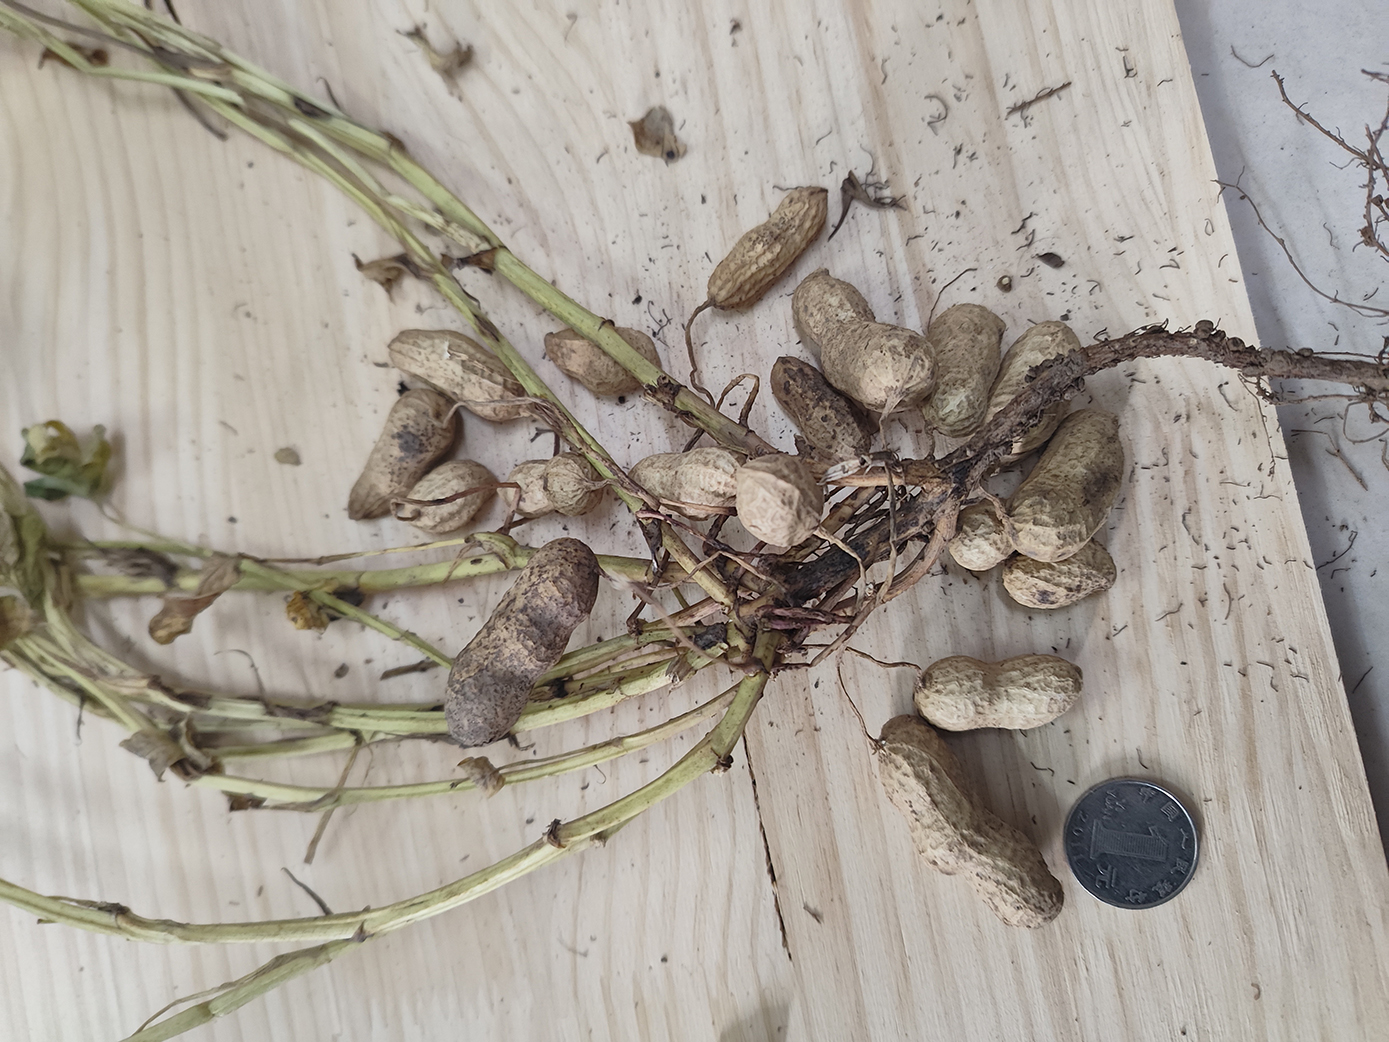h: (875, 713, 1067, 928), (795, 269, 935, 414), (1012, 410, 1127, 564), (348, 391, 463, 520), (387, 329, 537, 425), (981, 322, 1080, 464), (711, 188, 829, 308), (915, 655, 1084, 736), (768, 354, 871, 470), (926, 303, 1008, 435), (542, 324, 661, 403), (1002, 539, 1118, 612), (623, 448, 740, 519), (393, 459, 497, 537), (736, 455, 824, 546), (502, 449, 597, 519), (953, 499, 1016, 572)
l: (442, 539, 602, 746)
